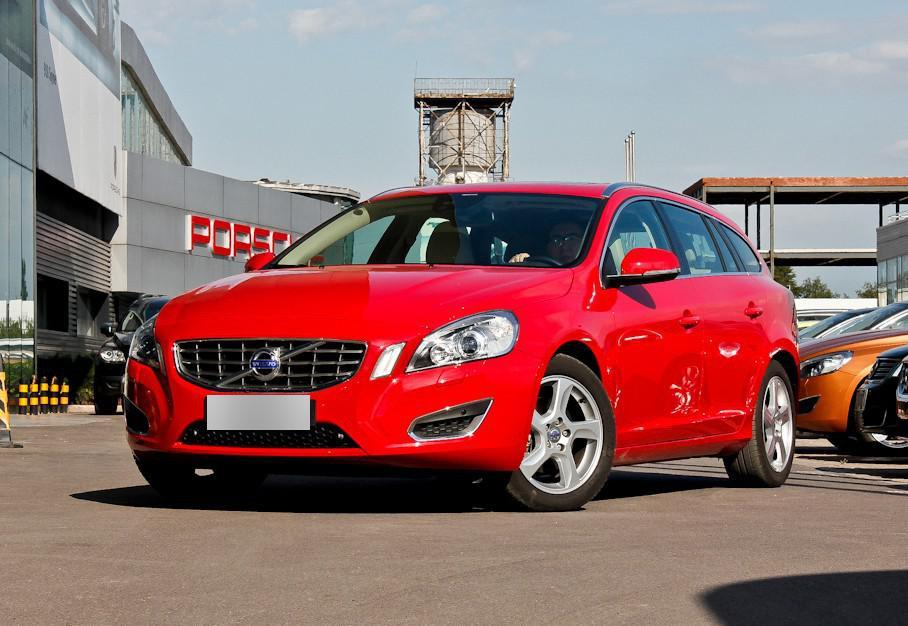Wagon: (122, 180, 802, 512)
